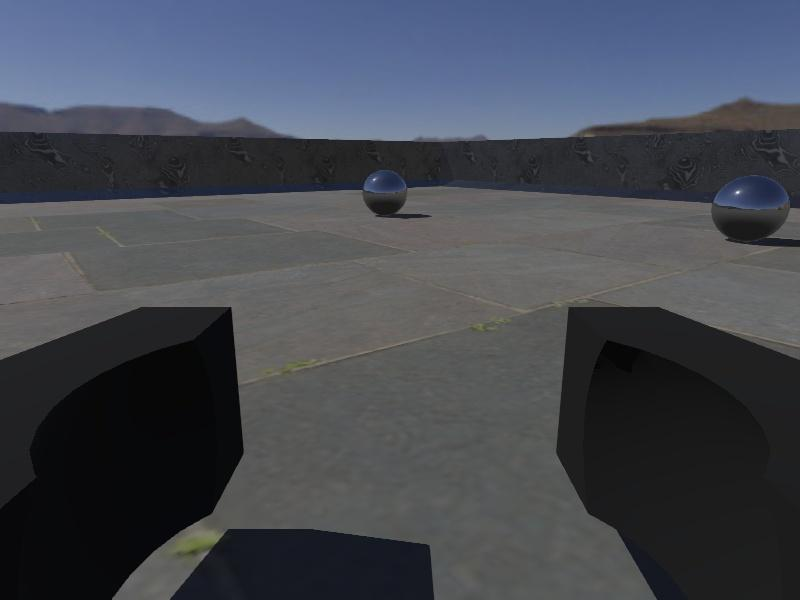steel ball: (711, 173, 790, 242), (362, 168, 408, 217)
